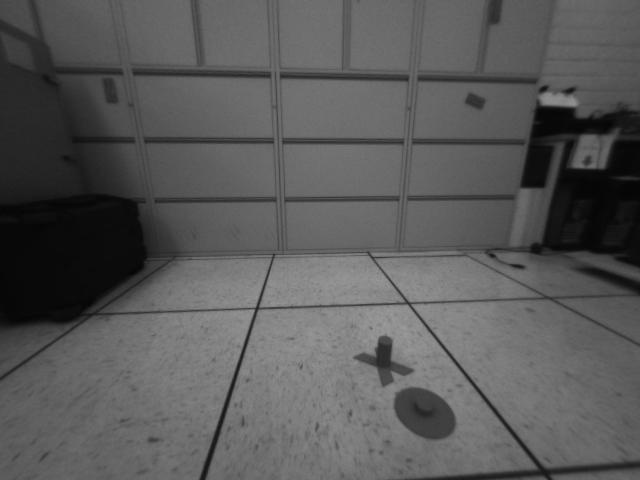X: (354, 333, 413, 386)
